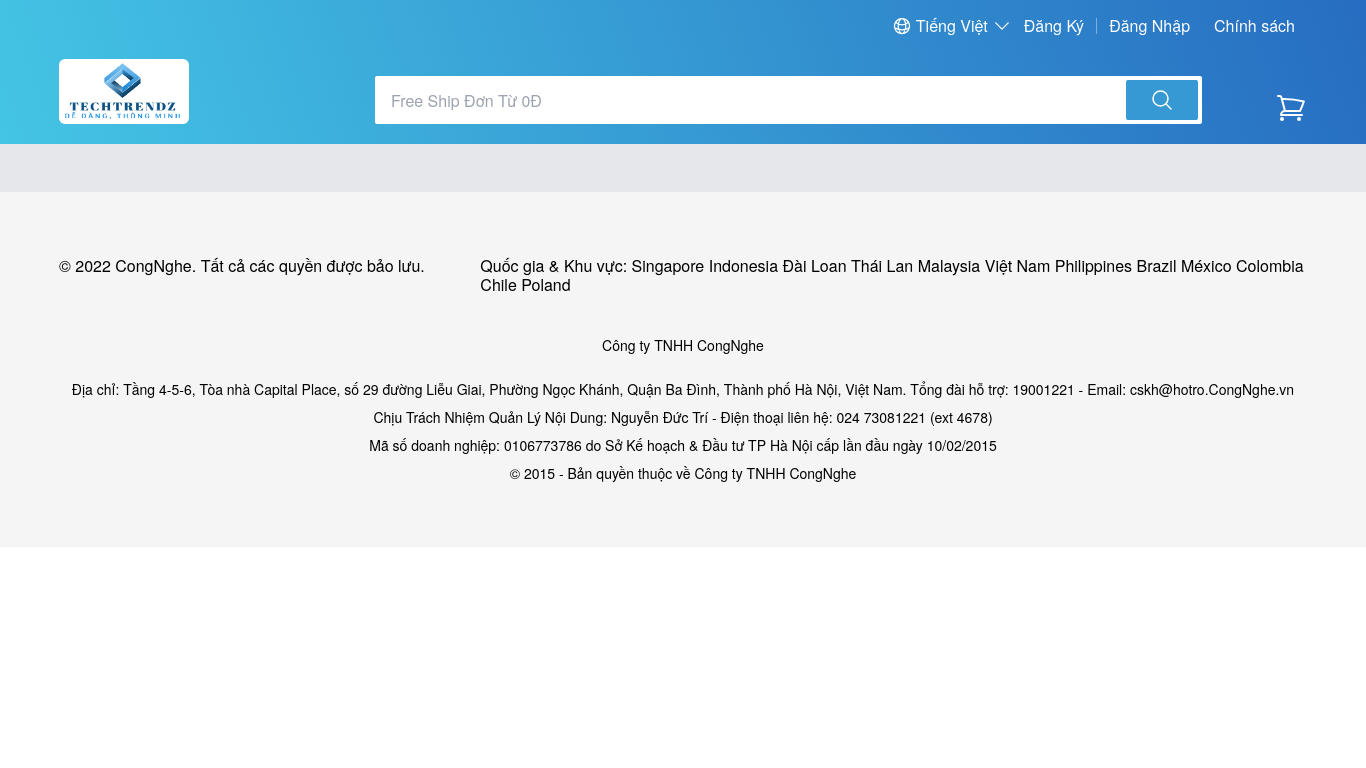
Test: App › App render và chuyển trang
# Verify chuyển sang trang login
Click the link "Đăng nhập".
click(1150, 26)  # box left=1109, top=16, right=1190, bottom=35
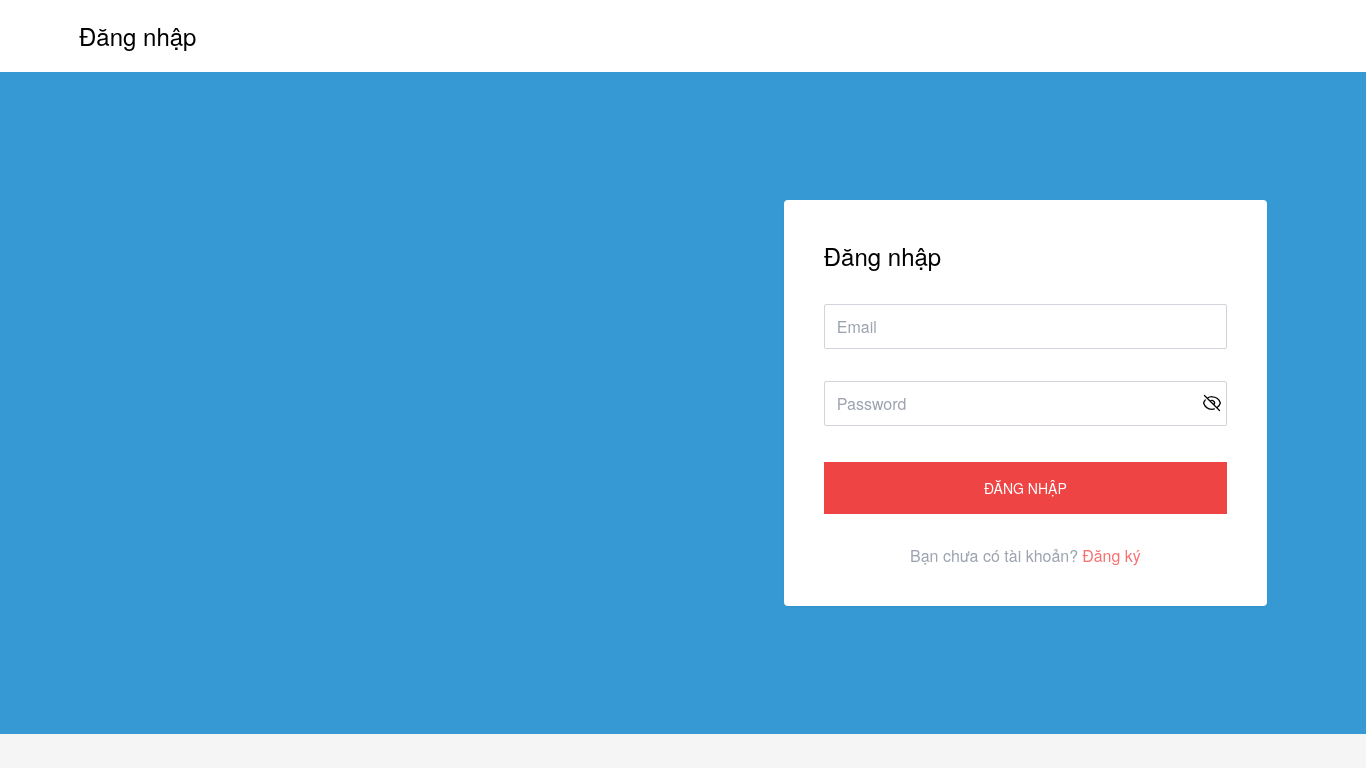
Now the text "Bạn chưa có tài khoản?" is shown, box left=910, top=546, right=1078, bottom=566
